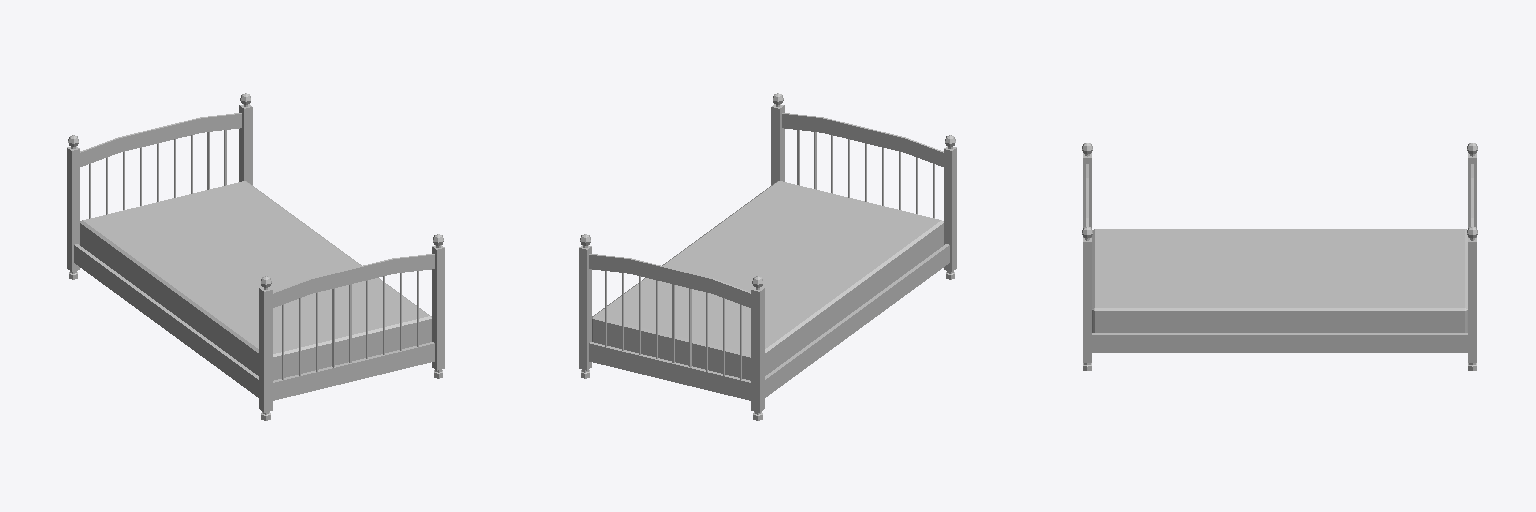
File: bed.obj
The picture shows the model from 3 angles: view 1: azimuth 30°, elevation 25°; view 2: azimuth 150°, elevation 25°; view 3: azimuth 270°, elevation 25°; orthographic projection.
Visible parts, largest first — view 1: dusek, drv, clnd; view 2: dusek, drv, clnd; view 3: dusek, drv.
Boxes of the visible parts, box(x1,y1,x2,y2) form: dusek: box(80, 181, 431, 380); drv: box(67, 93, 444, 420); clnd: box(89, 130, 418, 379); dusek: box(592, 181, 943, 380); drv: box(579, 93, 956, 420); clnd: box(605, 130, 934, 379); dusek: box(1092, 229, 1467, 332); drv: box(1082, 143, 1477, 370).
Bounding box in the file's own units: 217 × 161 × 406.